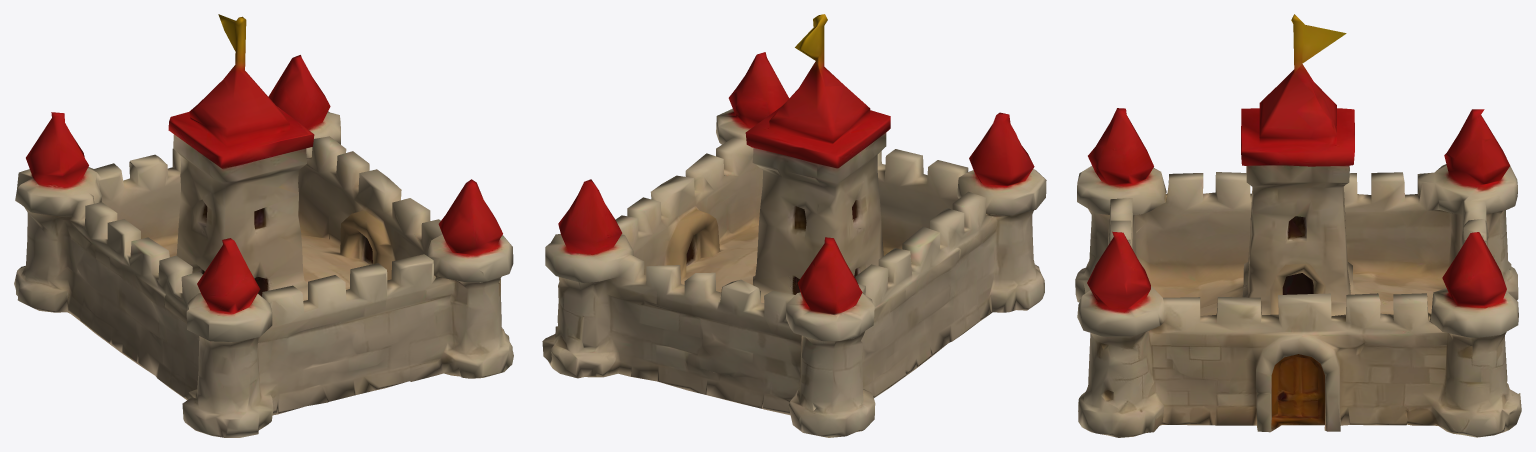
The model's file is fortress.glb.
3 views of the same model, side by side, from view 1: azimuth 30°, elevation 25°; view 2: azimuth 150°, elevation 25°; view 3: azimuth 270°, elevation 25° (orthographic). The views are drawn at different scales.
Visible parts, largest first — view 1: tripo_node_f77e55b4-173b-4d9f-a46c-b7254dcb2699; view 2: tripo_node_f77e55b4-173b-4d9f-a46c-b7254dcb2699; view 3: tripo_node_f77e55b4-173b-4d9f-a46c-b7254dcb2699.
Boxes of the visible parts, x1,y1,x2,y2 form: tripo_node_f77e55b4-173b-4d9f-a46c-b7254dcb2699: [14, 14, 513, 437]; tripo_node_f77e55b4-173b-4d9f-a46c-b7254dcb2699: [542, 14, 1046, 437]; tripo_node_f77e55b4-173b-4d9f-a46c-b7254dcb2699: [1075, 14, 1521, 437].
Bounding box in the file's own units: 0.8497 × 0.8177 × 1.
1 material, 1 textured.
